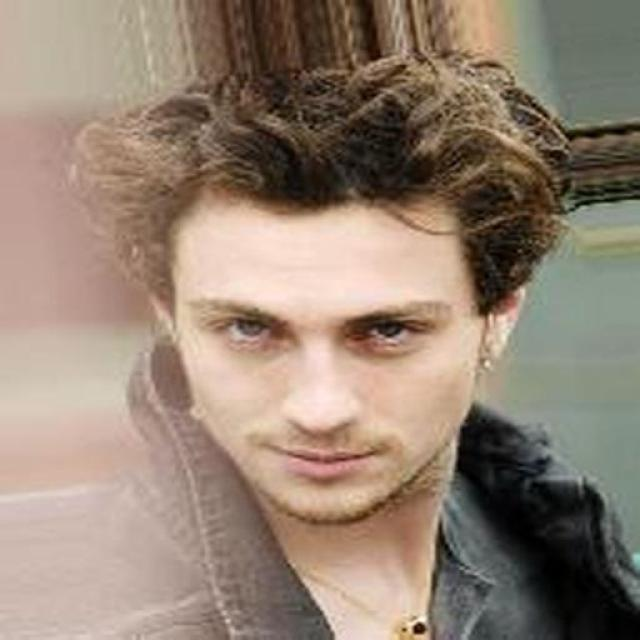bareface: (150, 99, 496, 526)
